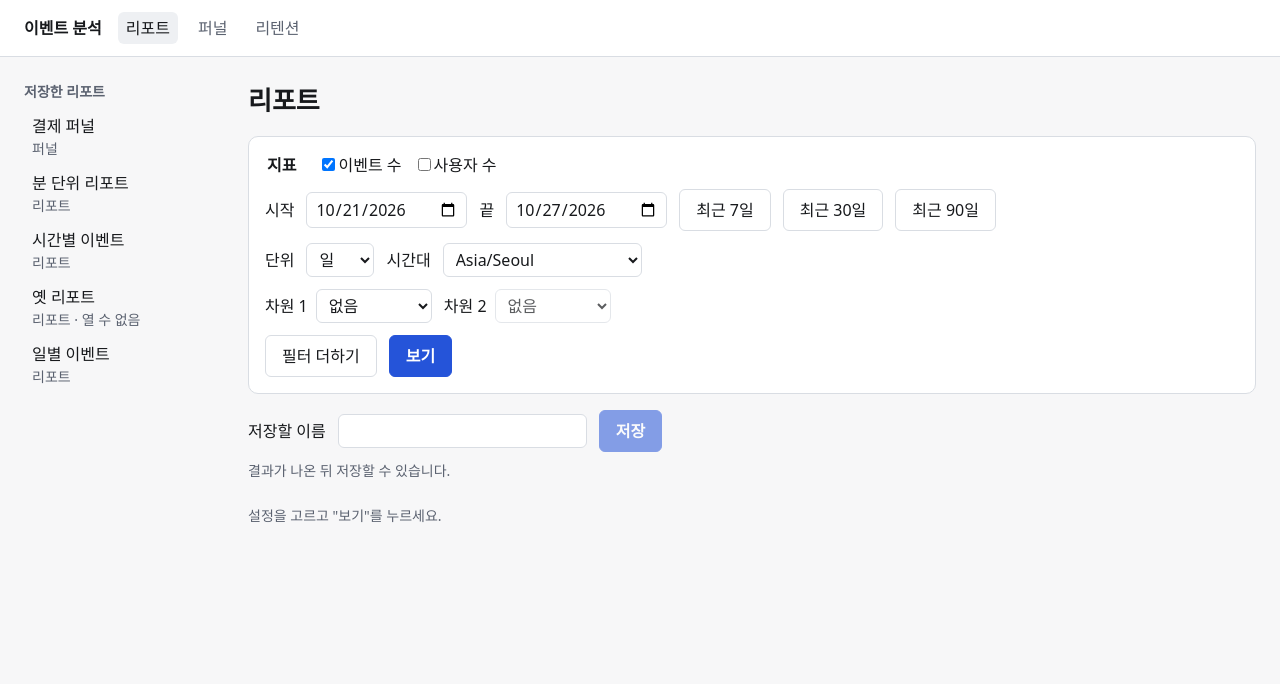
Test: 열기 › 퍼널은 퍼널 화면에서 열고 그 설정으로 센다
Click the link "결제 퍼널 퍼널" at x=65, y=136, box [32, 114, 98, 158]
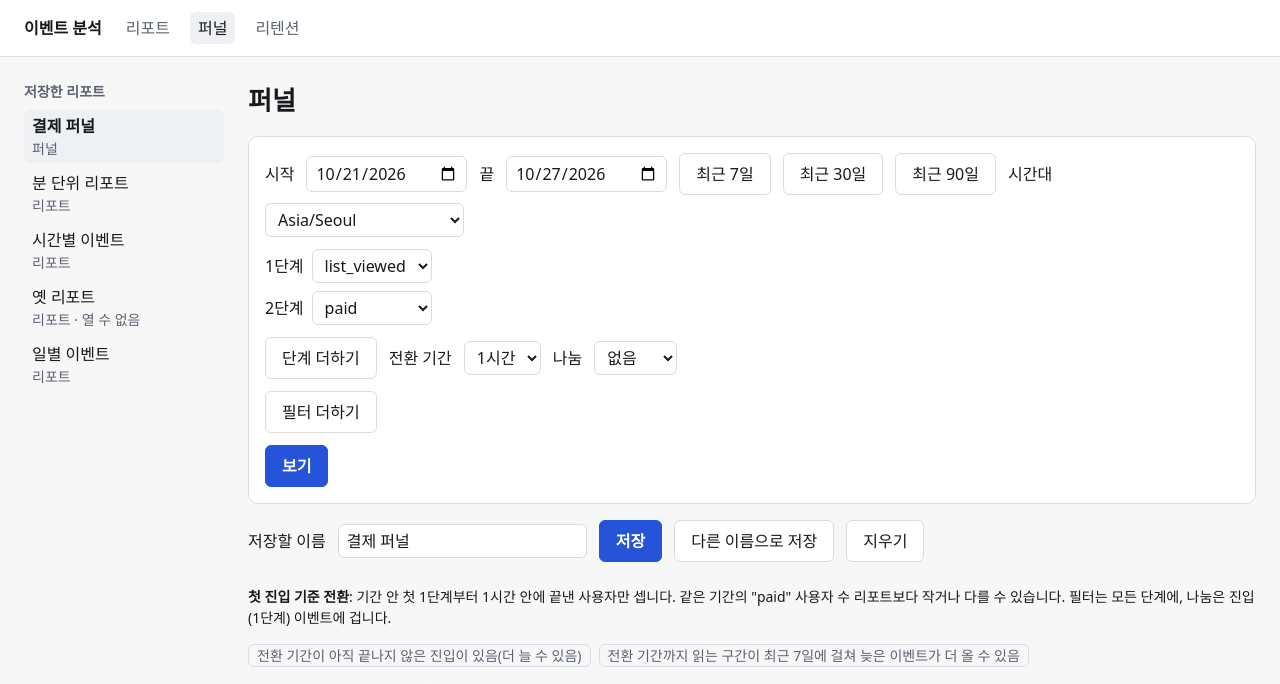
Expected: the heading "퍼널" is shown, [248, 82, 296, 118]
